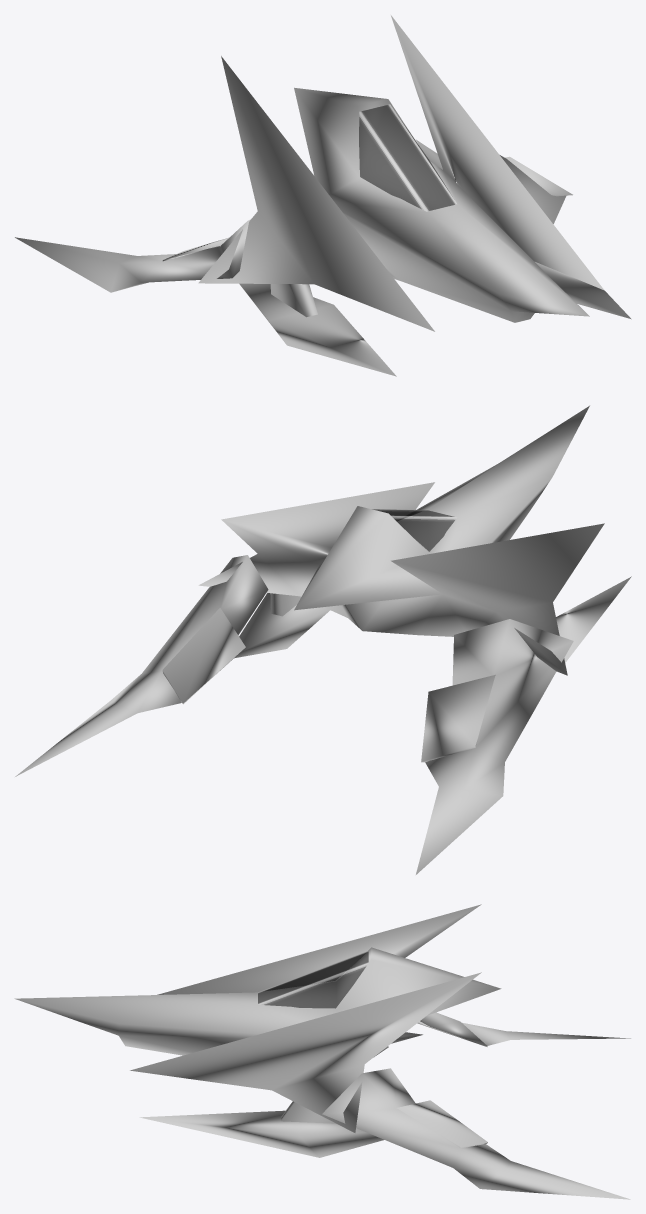
The model's file is arwingNew27.obj.
3 views of the same model, one above another, from view 1: azimuth 30°, elevation 25°; view 2: azimuth 150°, elevation 25°; view 3: azimuth 270°, elevation 25° (orthographic). The views are drawn at different scales.
Visible parts, largest first — view 1: Arwing.002; view 2: Arwing.002; view 3: Arwing.002.
Part boxes in pixels (x1,y1,x2,y2): Arwing.002: (15,15,631,376); Arwing.002: (15,405,631,874); Arwing.002: (14,904,630,1199).
Bounding box in the file's own units: 4.11 × 2.15 × 6.65.
